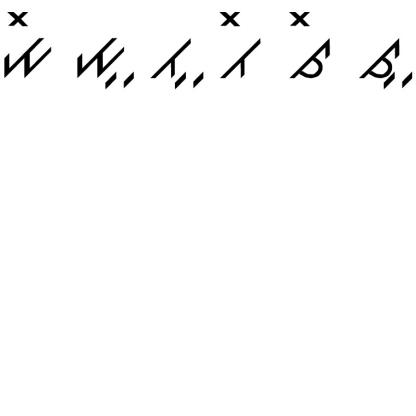bah: (145, 38, 206, 93)
bo: (214, 8, 264, 84)
cah: (355, 28, 415, 98)
co: (282, 7, 334, 94)
mah: (70, 30, 139, 96)
mo: (2, 8, 56, 83)
